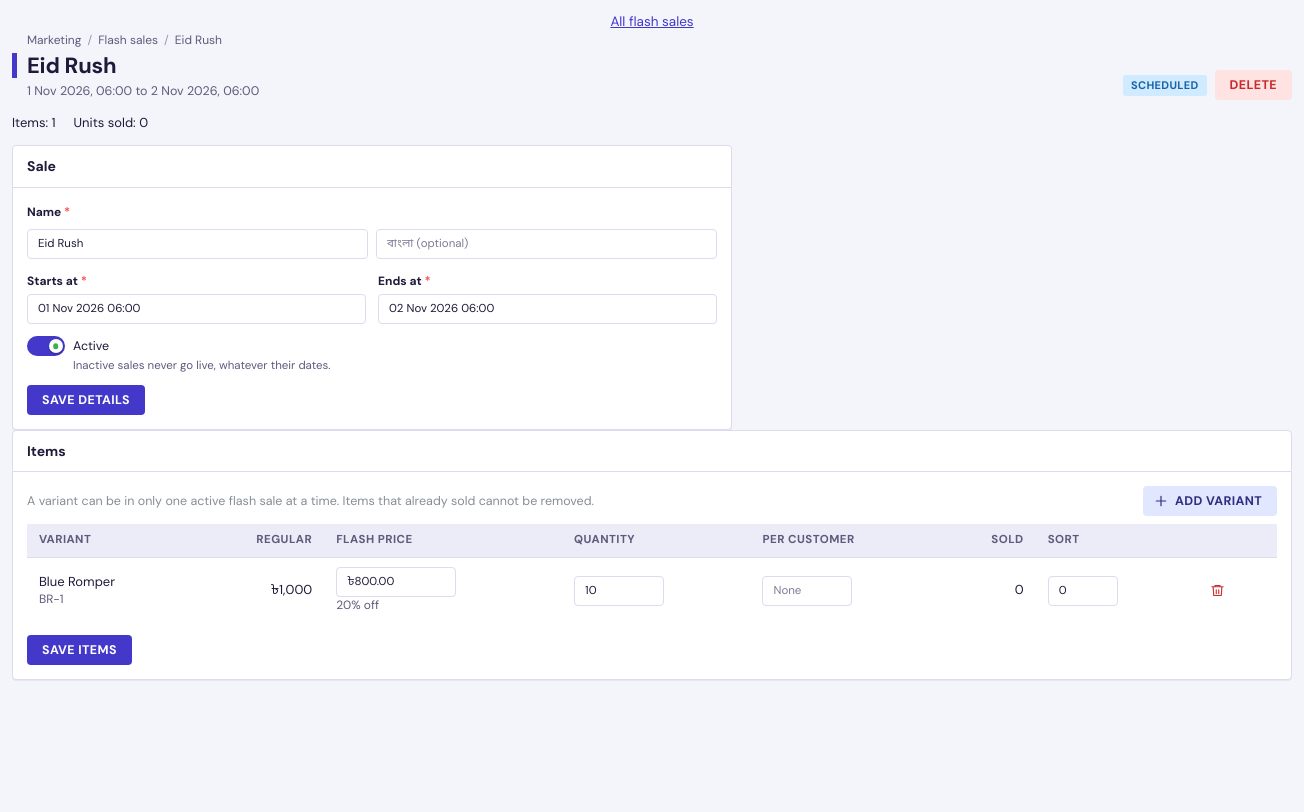
Scenario: FlashSaleEditorPage items › shows the overlap message with the other sale name
Expected: the text "Blue Romper" is shown, [39,573,115,590]
What coordinates should you click on to do the following:
click the button "Save items"
I would click on:
 (79, 650)
Its box is [27,636,132,666].
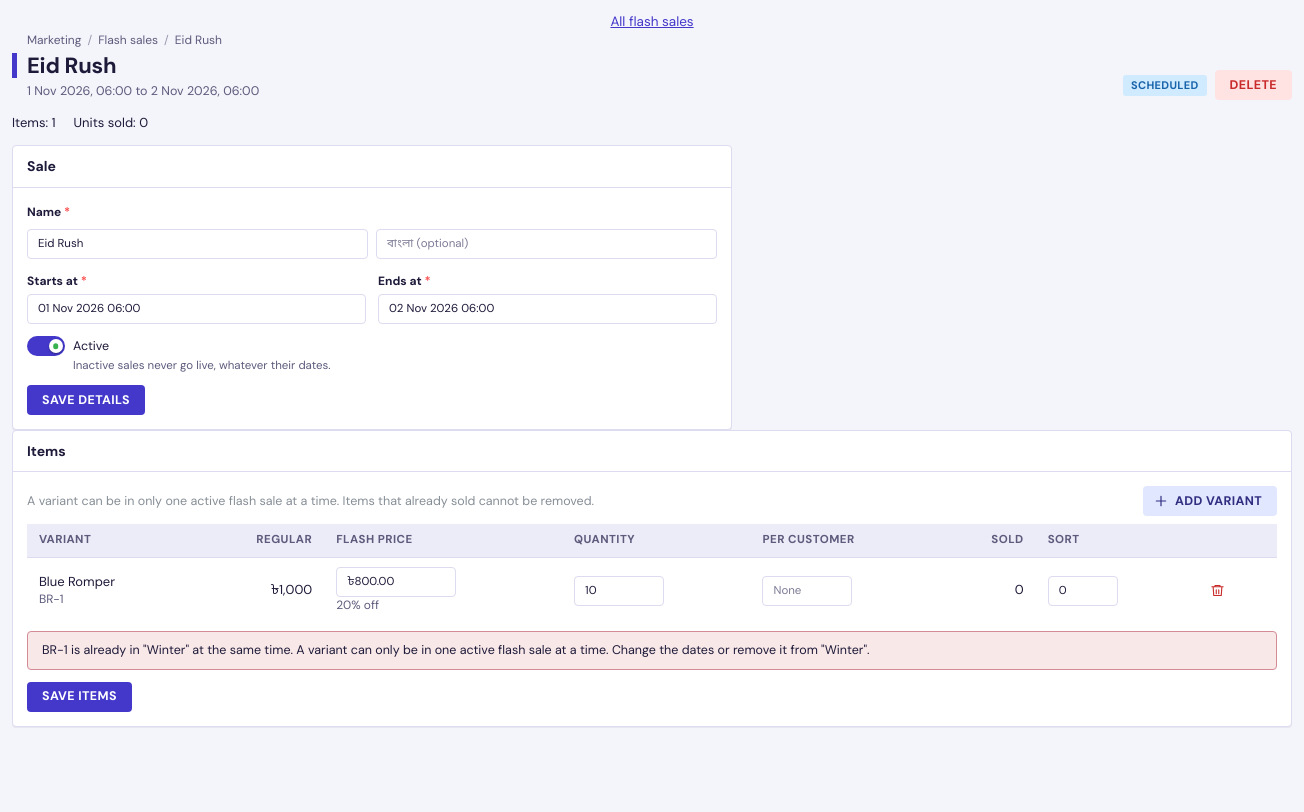
Expected: the text "already in \"Winter\"" is shown, [42,642,870,658]
